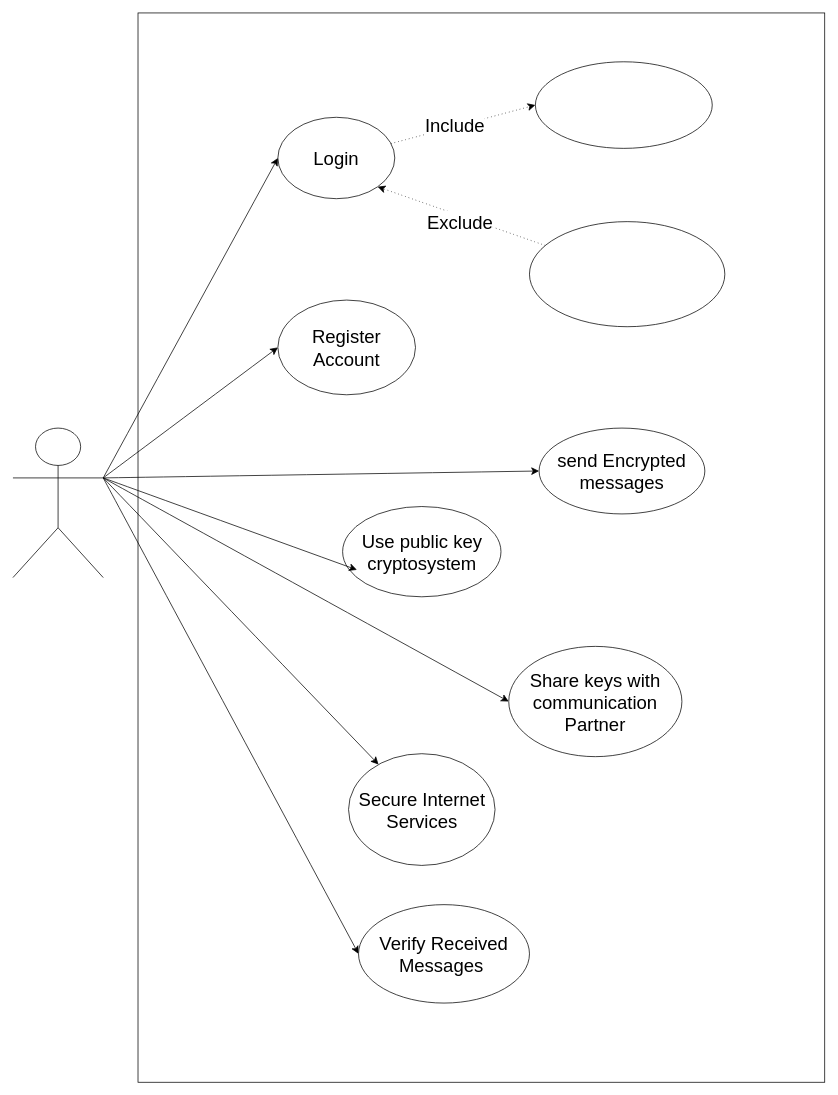
The diagram is 838 pixels wide and 1095 high, and some of its shapes have lost their labels. Here are the shapes that lost their labels. From the top down, the box of each, then its label:
(535, 61, 712, 148): Authenticate
(529, 221, 725, 327): Invalid username or password
